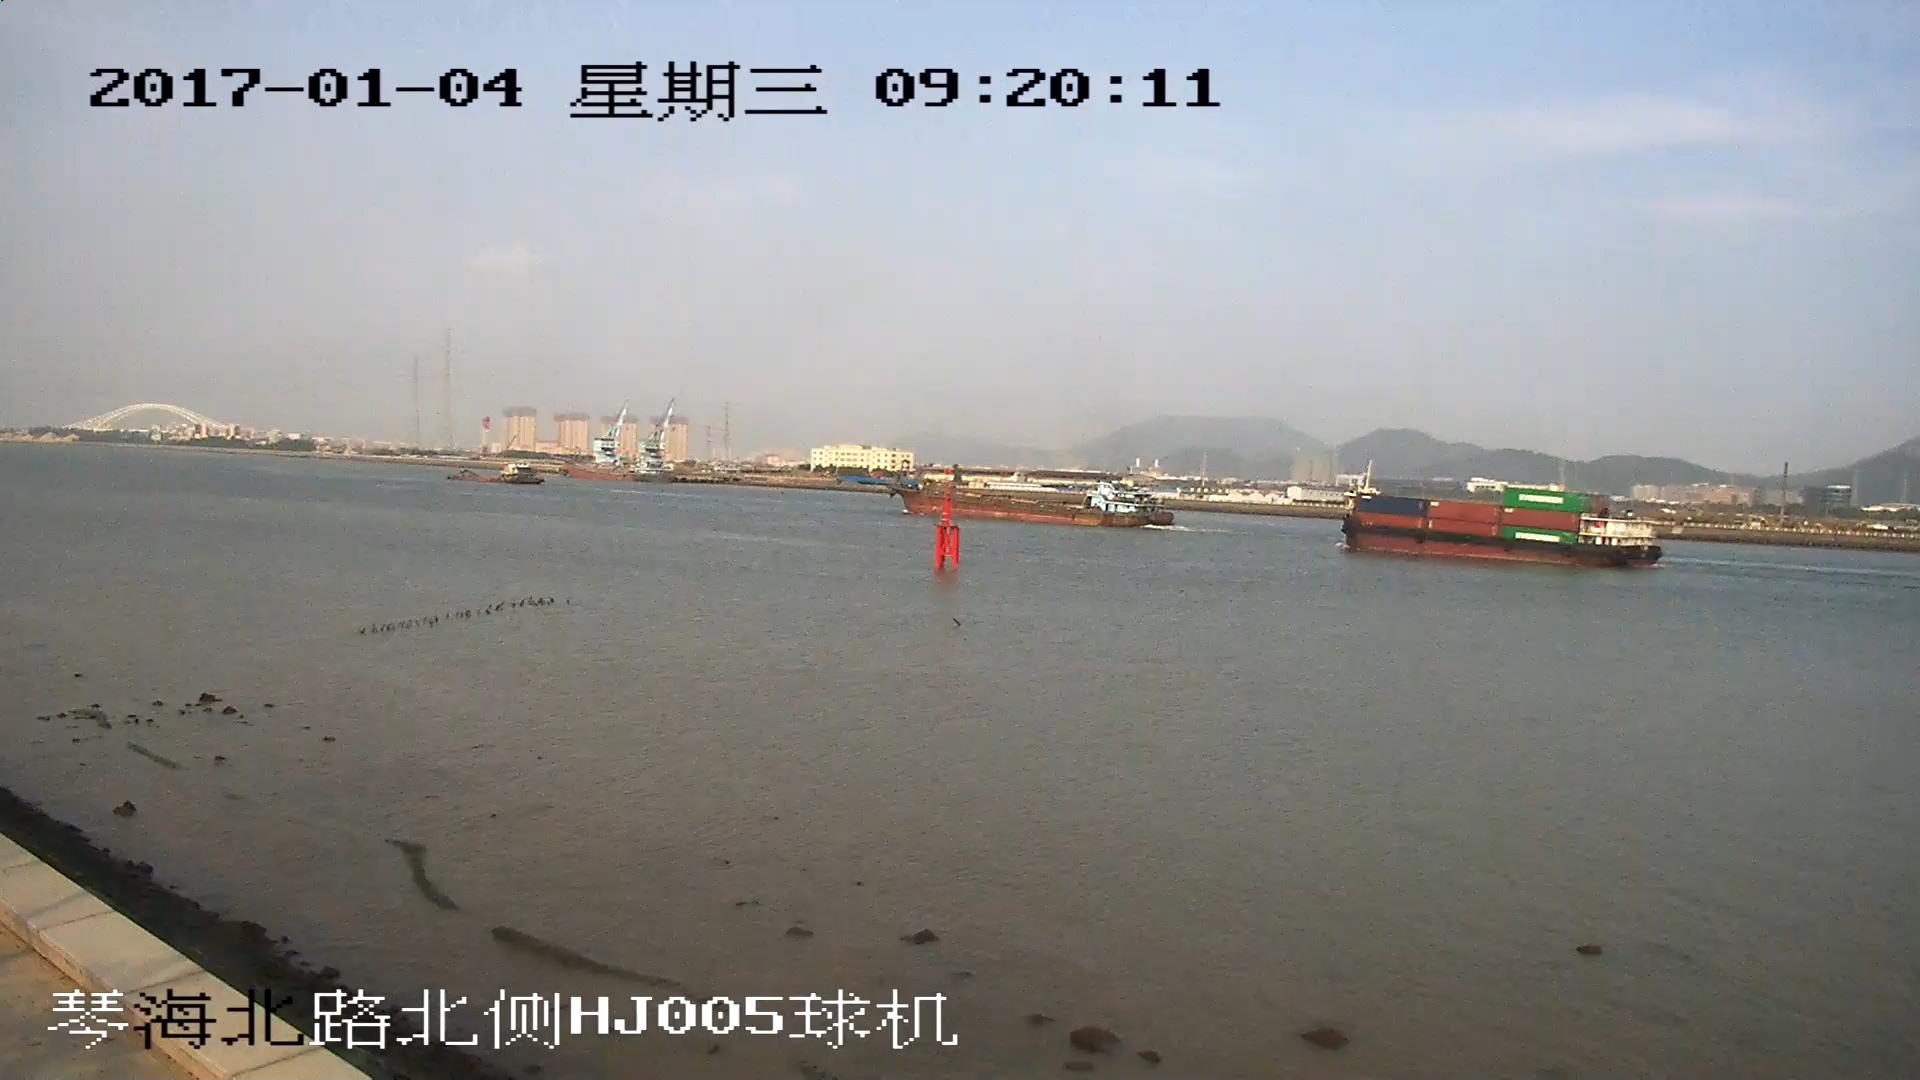bulk cargo carrier: (956, 482, 1172, 526)
container ship: (1347, 491, 1665, 572)
